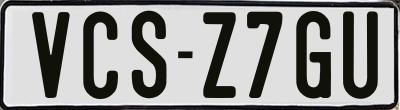7: (245, 9, 285, 96)
C: (83, 9, 124, 99)
G: (296, 10, 332, 104)
S: (130, 8, 167, 97)
U: (343, 9, 378, 99)
V: (31, 12, 72, 98)
Z: (202, 10, 240, 96)
